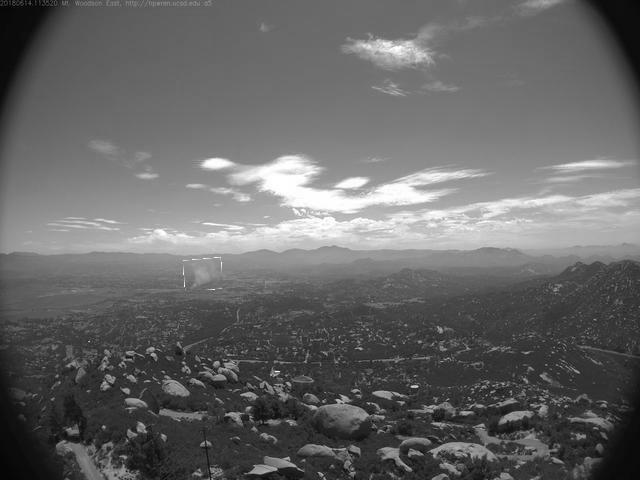smoke: (185, 259, 224, 292)
